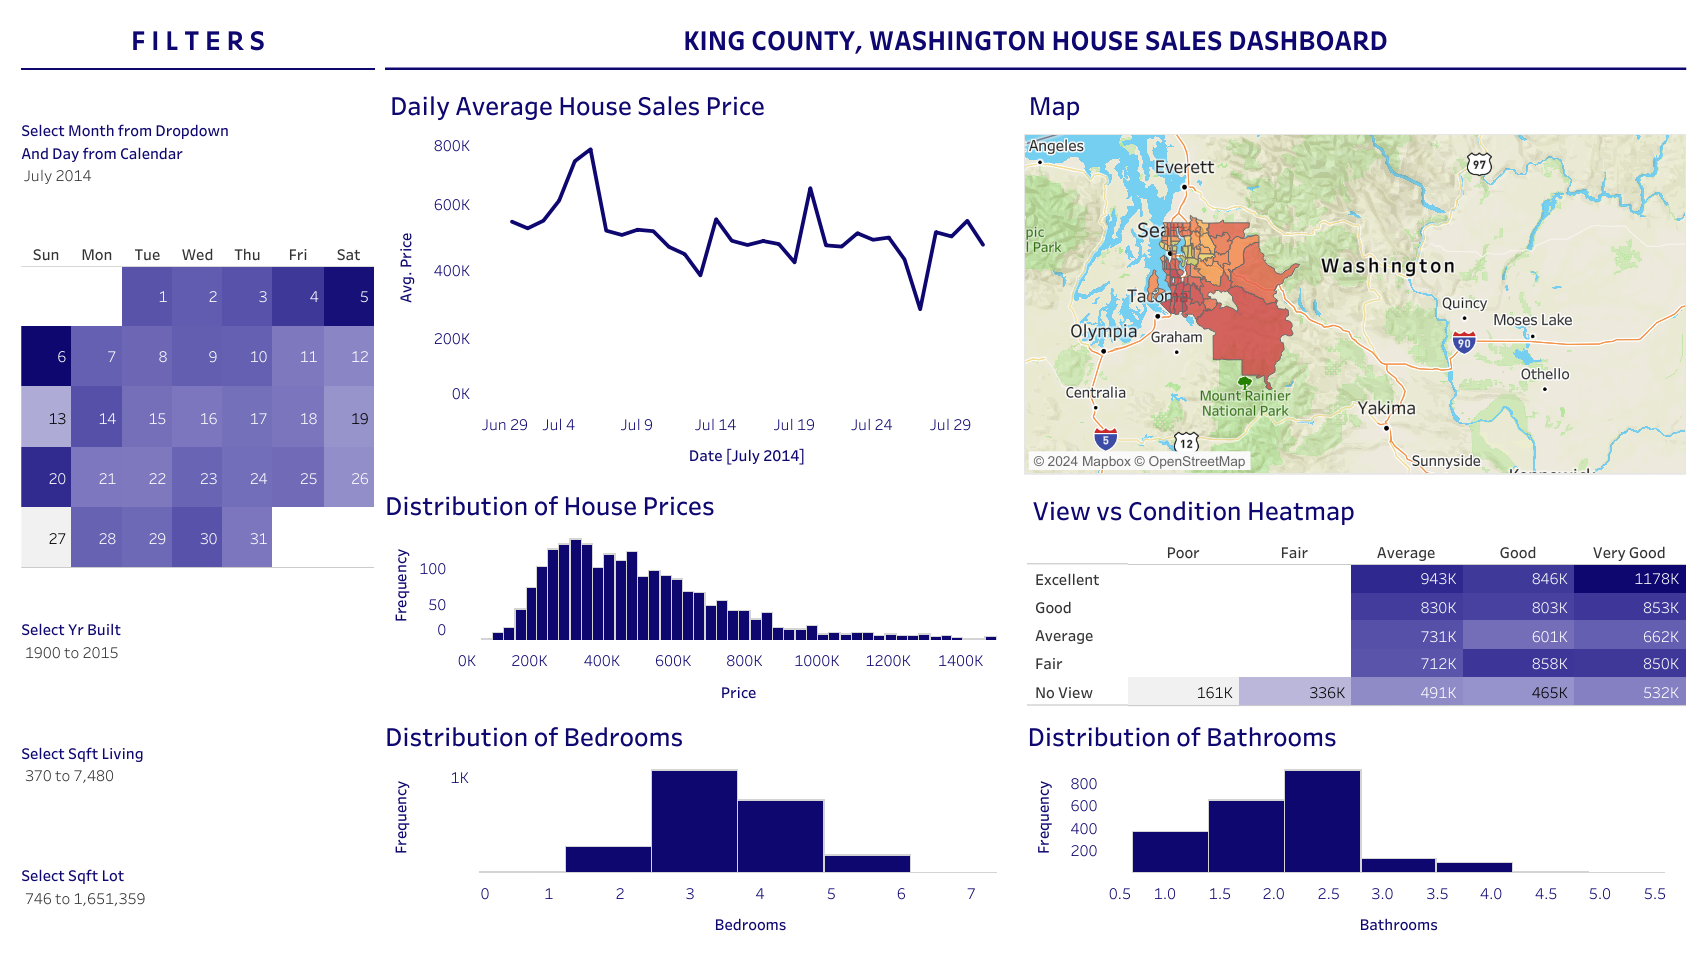

The dashboard page shown, as its layout file describes it:
{"tool":"tableau","page":{"name":"House Sales","canvas":[1366,768],"ordinal":0},"visuals":[{"type":"text","box":[13,13,285.8,45]},{"type":"text","box":[298.9,13,1054.1,45]},{"type":"blank","box":[13,58,285.8,10]},{"type":"blank","box":[298.9,58,1054.1,10]},{"type":"blank","box":[13,68,285.8,30]},{"type":"worksheet","title":"Daily Average House Sales Price","mark":"Automatic","rows":["price"],"cols":["date"],"box":[298.9,68,519.6,316]},{"type":"worksheet","title":"Map","mark":"Automatic","box":[818.4,68,534.6,316]},{"type":"filter","title":"Calendar","param":"[federated.1xnk3ra0t4zeq1103jcpj0fvih0b].[my:date:ok]","box":[13,98,285.8,82]},{"type":"blank","box":[13,180,285.8,30]},{"type":"worksheet","title":"Calendar","mark":"Square","rows":["date"],"cols":["date"],"box":[13,210,285.8,270]},{"type":"worksheet","title":"Distribution of House Prices","mark":"Automatic","rows":["price"],"cols":["Price (bin)"],"box":[298.9,384,519.1,185.5]},{"type":"worksheet","title":"View vs Condition Heatmap","mark":"Square","rows":["view"],"cols":["condition"],"box":[818,384,535,185.5]},{"type":"blank","box":[13,480,285.8,30]},{"type":"filter","title":"Calendar","param":"[federated.1xnk3ra0t4zeq1103jcpj0fvih0b].[none:yr_built:qk]","box":[13,510,285.8,55]},{"type":"blank","box":[13,565,285.8,30]},{"type":"worksheet","title":"Distribution of Bedrooms","mark":"Automatic","rows":["bedrooms"],"cols":["Bedrooms (bin)"],"box":[298.9,569.5,519.1,185.5]},{"type":"worksheet","title":"Distribution of Bathrooms","mark":"Automatic","rows":["bathrooms"],"cols":["Bathrooms (bin)"],"box":[818,569.5,535,185.5]},{"type":"filter","title":"Calendar","param":"[federated.1xnk3ra0t4zeq1103jcpj0fvih0b].[none:sqft_living:qk]","box":[13,595,285.8,55]},{"type":"blank","box":[13,650,285.8,30]},{"type":"filter","title":"Calendar","param":"[federated.1xnk3ra0t4zeq1103jcpj0fvih0b].[none:sqft_lot:qk]","box":[13,680,285.8,55]}]}

Visuals, with their boxes in screenshot pixels (x1, y1, x2, y2), scaled from the page's 1366x768 canvas onto the 1706x959 screenshot:
text: pyautogui.locateOnScreen(16, 16, 373, 72)
text: pyautogui.locateOnScreen(373, 16, 1690, 72)
blank: pyautogui.locateOnScreen(16, 72, 373, 85)
blank: pyautogui.locateOnScreen(373, 72, 1690, 85)
blank: pyautogui.locateOnScreen(16, 85, 373, 122)
"Daily Average House Sales Price" worksheet: pyautogui.locateOnScreen(373, 85, 1022, 480)
"Map" worksheet: pyautogui.locateOnScreen(1022, 85, 1690, 480)
"Calendar" filter: pyautogui.locateOnScreen(16, 122, 373, 225)
blank: pyautogui.locateOnScreen(16, 225, 373, 262)
"Calendar" worksheet (Square marks): pyautogui.locateOnScreen(16, 262, 373, 599)
"Distribution of House Prices" worksheet: pyautogui.locateOnScreen(373, 480, 1022, 711)
"View vs Condition Heatmap" worksheet (Square marks): pyautogui.locateOnScreen(1022, 480, 1690, 711)
blank: pyautogui.locateOnScreen(16, 599, 373, 637)
"Calendar" filter: pyautogui.locateOnScreen(16, 637, 373, 706)
blank: pyautogui.locateOnScreen(16, 706, 373, 743)
"Distribution of Bedrooms" worksheet: pyautogui.locateOnScreen(373, 711, 1022, 943)
"Distribution of Bathrooms" worksheet: pyautogui.locateOnScreen(1022, 711, 1690, 943)
"Calendar" filter: pyautogui.locateOnScreen(16, 743, 373, 812)
blank: pyautogui.locateOnScreen(16, 812, 373, 849)
"Calendar" filter: pyautogui.locateOnScreen(16, 849, 373, 918)
